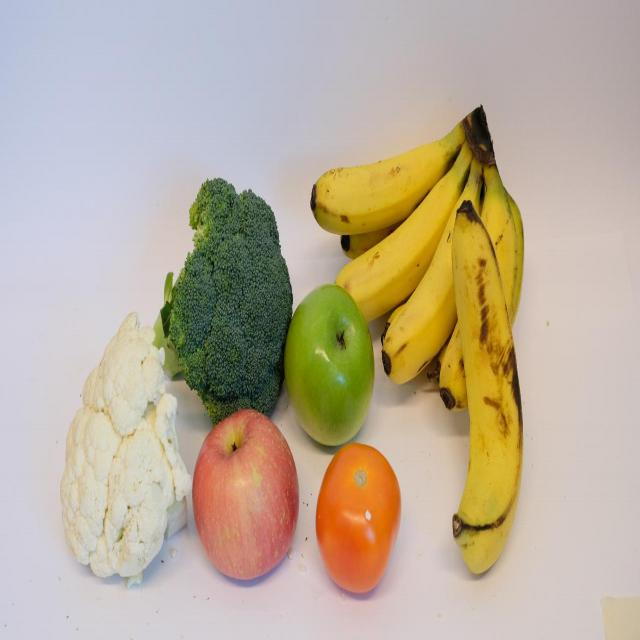apple: (191, 406, 300, 584), (284, 282, 376, 446)
banana: (449, 200, 524, 575), (332, 158, 470, 325), (378, 179, 486, 386), (439, 185, 530, 412), (307, 118, 450, 237)
broccoli: (150, 175, 293, 428)
cauliflower: (54, 309, 192, 587)
tomato: (314, 441, 402, 597)
